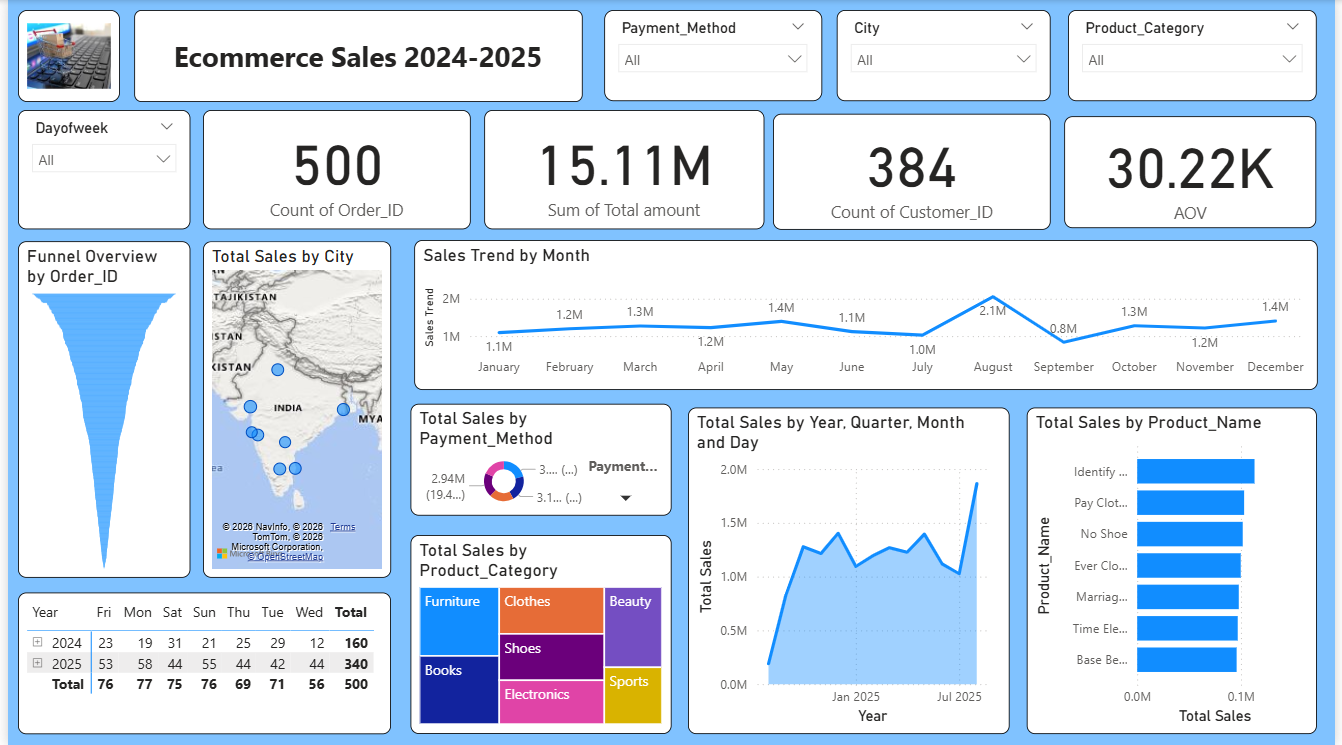

Layout of this report page (visuals, bound fields, positions):
{"tool":"powerbi","page":{"name":"Page 1","canvas":[1280,720],"ordinal":0},"visuals":[{"type":"card","fields":{"Values":["Count(ecommerce_sales_dataset.Order_ID)"]},"box":[188.3,106.7,258.3,115],"z":0},{"type":"card","fields":{"Values":["Sum(ecommerce_sales_dataset.Total amount)"]},"box":[460,106.7,270,115],"z":1000},{"type":"card","fields":{"Values":["Count(ecommerce_sales_dataset.Customer_ID)"]},"box":[738.3,110,268.3,111.7],"z":2000},{"type":"card","fields":{"Values":["ecommerce_sales_dataset.AOV"]},"box":[1020,111.7,243.3,108.3],"z":3000},{"type":"treemap","fields":{"Group":["ecommerce_sales_dataset.Product_Category"],"Values":["ecommerce_sales_dataset.Total Sales"]},"box":[388.3,516.7,251.7,191.7],"z":4000},{"type":"donutChart","fields":{"Category":["ecommerce_sales_dataset.Payment_Method"],"Y":["ecommerce_sales_dataset.Total Sales"]},"box":[388.3,390,251.7,108.3],"z":5000},{"type":"areaChart","fields":{"Category":["ecommerce_sales_dataset.Month_year.Variation.Date Hierarchy.Year","ecommerce_sales_dataset.Month_year.Variation.Date Hierarchy.Quarter","ecommerce_sales_dataset.Month_year.Variation.Date Hierarchy.Month","ecommerce_sales_dataset.Month_year.Variation.Date Hierarchy.Day"],"Y":["ecommerce_sales_dataset.Total Sales"]},"box":[656.7,393.3,310,315],"z":7000},{"type":"clusteredBarChart","fields":{"Y":["ecommerce_sales_dataset.Total Sales"],"Category":["ecommerce_sales_dataset.Product_Name"]},"box":[983.3,393.3,280,315],"z":8000},{"type":"pivotTable","fields":{"Rows":["ecommerce_sales_dataset.Month_year.Variation.Date Hierarchy.Year","ecommerce_sales_dataset.Month_year.Variation.Date Hierarchy.Month"],"Columns":["ecommerce_sales_dataset.Dayofweek"],"Values":["ecommerce_sales_dataset.Total Orders"]},"box":[10,571.7,360,136.7],"z":9000},{"type":"funnel","fields":{"Category":["ecommerce_sales_dataset.Order_ID","ecommerce_sales_dataset.Customer_ID"],"Y":["Sum(ecommerce_sales_dataset.Total amount)"]},"box":[10,233.3,166.7,325],"z":10000},{"type":"lineChart","fields":{"Category":["ecommerce_sales_dataset.Month_year.Variation.Date Hierarchy.Month"],"Y":["Sum(ecommerce_sales_dataset.Total amount)"]},"box":[391.7,231.7,871.7,145],"z":11000},{"type":"map","fields":{"Size":["ecommerce_sales_dataset.Total Sales"],"Category":["ecommerce_sales_dataset.City"]},"box":[188.3,233.3,181.7,325],"z":12000},{"type":"textbox","box":[121.4,10,432.9,88.6],"z":13000},{"type":"image","box":[10,10,98.6,88.6],"z":14000},{"type":"slicer","fields":{"Values":["ecommerce_sales_dataset.Payment_Method"]},"box":[575,10,210,88.3],"z":15000},{"type":"slicer","fields":{"Values":["ecommerce_sales_dataset.City"]},"box":[800,10,206.7,88.3],"z":16000},{"type":"slicer","fields":{"Values":["ecommerce_sales_dataset.Product_Category"]},"box":[1023.3,10,240,88.3],"z":17000},{"type":"slicer","fields":{"Values":["ecommerce_sales_dataset.Dayofweek"]},"box":[10,106.7,166.7,115],"z":18000}]}

Visuals, with their boxes in screenshot pixels (x1, y1, x2, y2), scaled from the page's 1280x720 canvas onto the 1342x745 screenshot:
card - Count(ecommerce_sales_dataset.Order_ID): left=197, top=110, right=468, bottom=229
card - Sum(ecommerce_sales_dataset.Total amount): left=482, top=110, right=765, bottom=229
card - Count(ecommerce_sales_dataset.Customer_ID): left=774, top=114, right=1055, bottom=229
card - ecommerce_sales_dataset.AOV: left=1069, top=116, right=1324, bottom=228
treemap - ecommerce_sales_dataset.Product_Category x ecommerce_sales_dataset.Total Sales: left=407, top=535, right=671, bottom=733
donutChart - ecommerce_sales_dataset.Payment_Method x ecommerce_sales_dataset.Total Sales: left=407, top=404, right=671, bottom=516
areaChart - ecommerce_sales_dataset.Month_year.Variation.Date Hierarchy.Year x ecommerce_sales_dataset.Month_year.Variation.Date Hierarchy.Quarter: left=689, top=407, right=1014, bottom=733
clusteredBarChart - ecommerce_sales_dataset.Total Sales x ecommerce_sales_dataset.Product_Name: left=1031, top=407, right=1324, bottom=733
pivotTable - ecommerce_sales_dataset.Month_year.Variation.Date Hierarchy.Year x ecommerce_sales_dataset.Month_year.Variation.Date Hierarchy.Month: left=10, top=592, right=388, bottom=733
funnel - ecommerce_sales_dataset.Order_ID x ecommerce_sales_dataset.Customer_ID: left=10, top=241, right=185, bottom=578
lineChart - ecommerce_sales_dataset.Month_year.Variation.Date Hierarchy.Month x Sum(ecommerce_sales_dataset.Total amount): left=411, top=240, right=1325, bottom=390
map - ecommerce_sales_dataset.Total Sales x ecommerce_sales_dataset.City: left=197, top=241, right=388, bottom=578
textbox: left=127, top=10, right=581, bottom=102
image: left=10, top=10, right=114, bottom=102
slicer - ecommerce_sales_dataset.Payment_Method: left=603, top=10, right=823, bottom=102
slicer - ecommerce_sales_dataset.City: left=839, top=10, right=1055, bottom=102
slicer - ecommerce_sales_dataset.Product_Category: left=1073, top=10, right=1324, bottom=102
slicer - ecommerce_sales_dataset.Dayofweek: left=10, top=110, right=185, bottom=229
